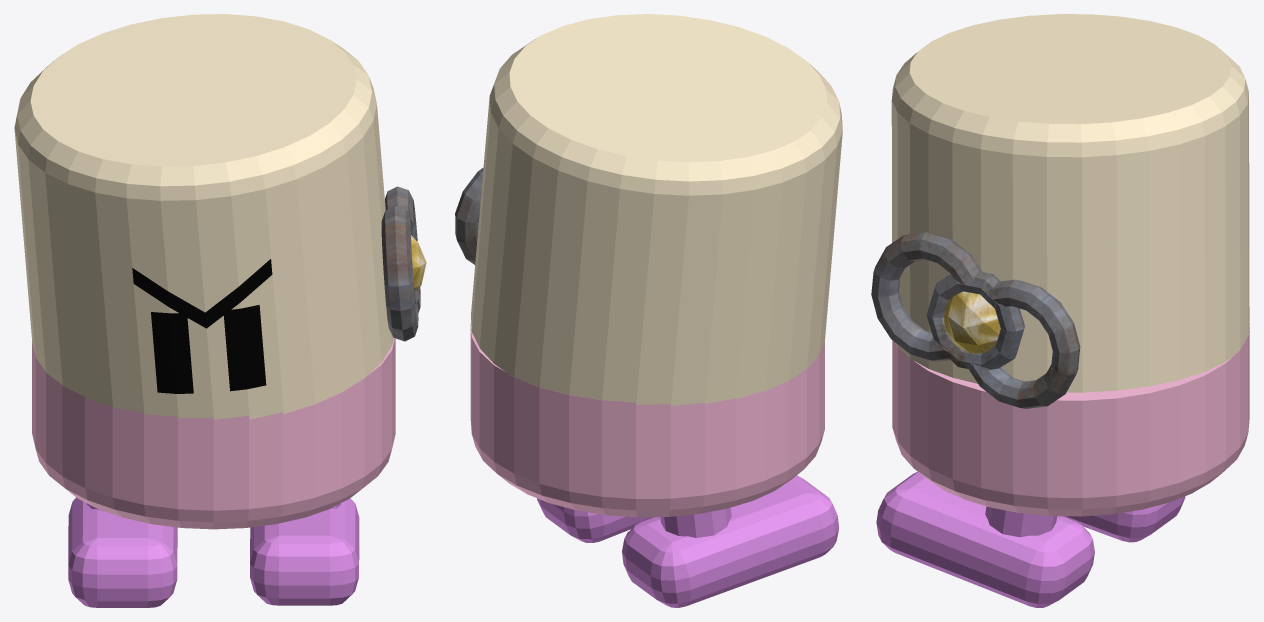
The model's file is Toasters009.obj.
3 renders of one model, left to right at view 1: azimuth 30°, elevation 25°; view 2: azimuth 150°, elevation 25°; view 3: azimuth 270°, elevation 25°, orthographic. The views are drawn at different scales.
Parts seen in each view (by area): view 1: Head, Jaw, RightLeg, LeftLeg, WindupKey; view 2: Head, Jaw, RightLeg, LeftLeg, WindupKey; view 3: Head, Jaw, WindupKey, LeftLeg, RightLeg.
Boxes of the visible parts, x1,y1,x2,y2 form: Head: (14, 14, 393, 419); Jaw: (32, 338, 395, 529); RightLeg: (68, 497, 177, 607); LeftLeg: (250, 498, 359, 605); WindupKey: (381, 186, 426, 341); Head: (471, 14, 842, 405); Jaw: (470, 322, 824, 517); RightLeg: (622, 475, 838, 607); LeftLeg: (537, 498, 653, 542); WindupKey: (455, 167, 483, 264); Head: (891, 14, 1249, 392); Jaw: (892, 321, 1249, 516); WindupKey: (871, 232, 1080, 408); LeftLeg: (876, 471, 1094, 607); RightLeg: (1063, 496, 1185, 542).
Size of the model in its own units: 119 by 151 by 106.
Materials: 6 (2 with a texture image).
